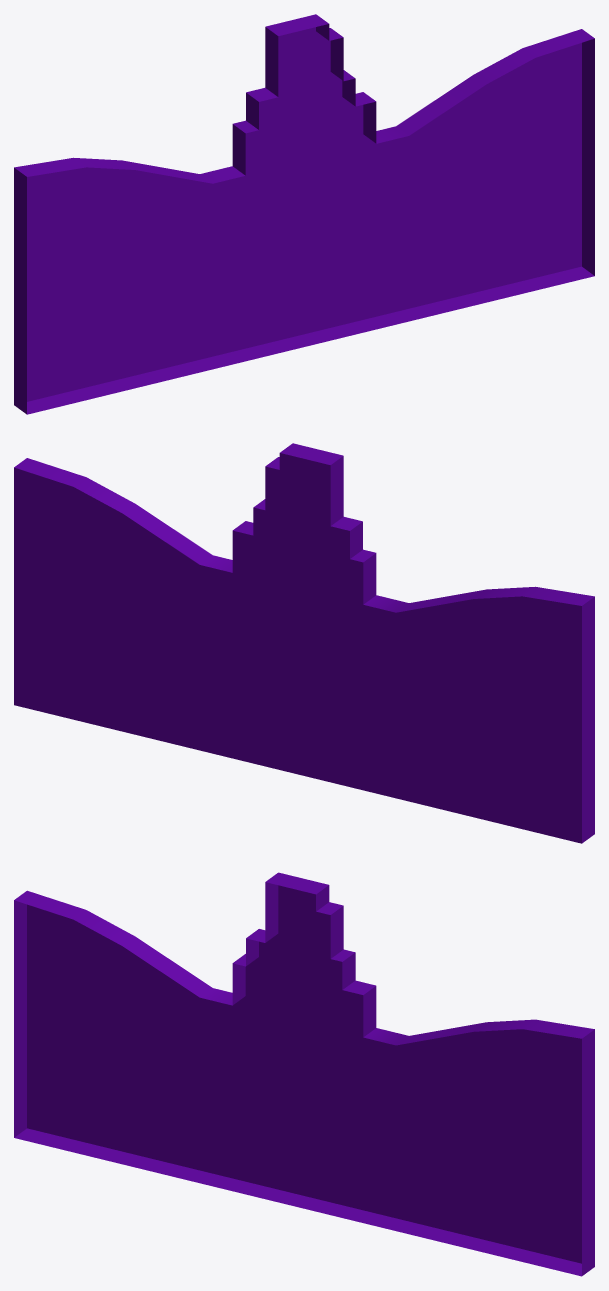
File: candy mountain low res.fbx
3 views of the same model, one above another, from view 1: azimuth 30°, elevation 25°; view 2: azimuth 150°, elevation 25°; view 3: azimuth 330°, elevation 25° (orthographic).
Visible parts, largest first — view 1: Candy_Mountain_terrain; view 2: Candy_Mountain_terrain; view 3: Candy_Mountain_terrain.
Part boxes in pixels (box(x1,y1,x2,y2)): Candy_Mountain_terrain: box(14, 14, 594, 414); Candy_Mountain_terrain: box(14, 443, 594, 843); Candy_Mountain_terrain: box(14, 872, 594, 1276).
Bounding box in the file's own units: 25 × 13.34 × 1.
